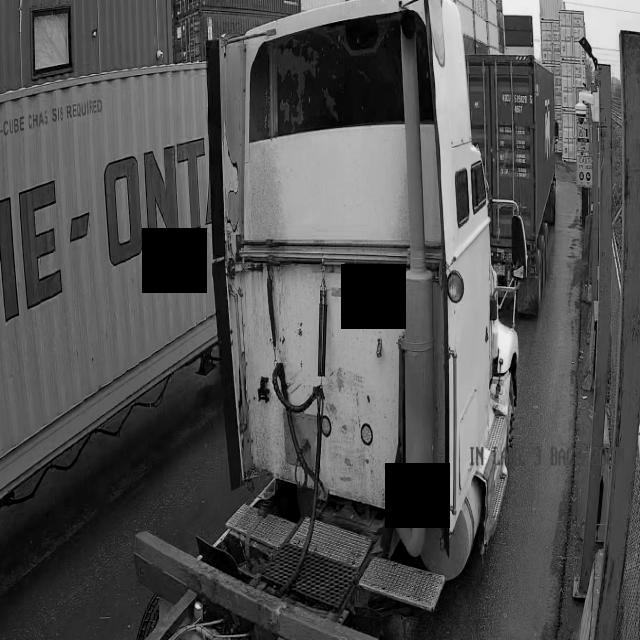truck_with_container: (0, 65, 216, 499), (465, 53, 557, 315), (20, 183, 59, 305), (490, 203, 515, 276)
